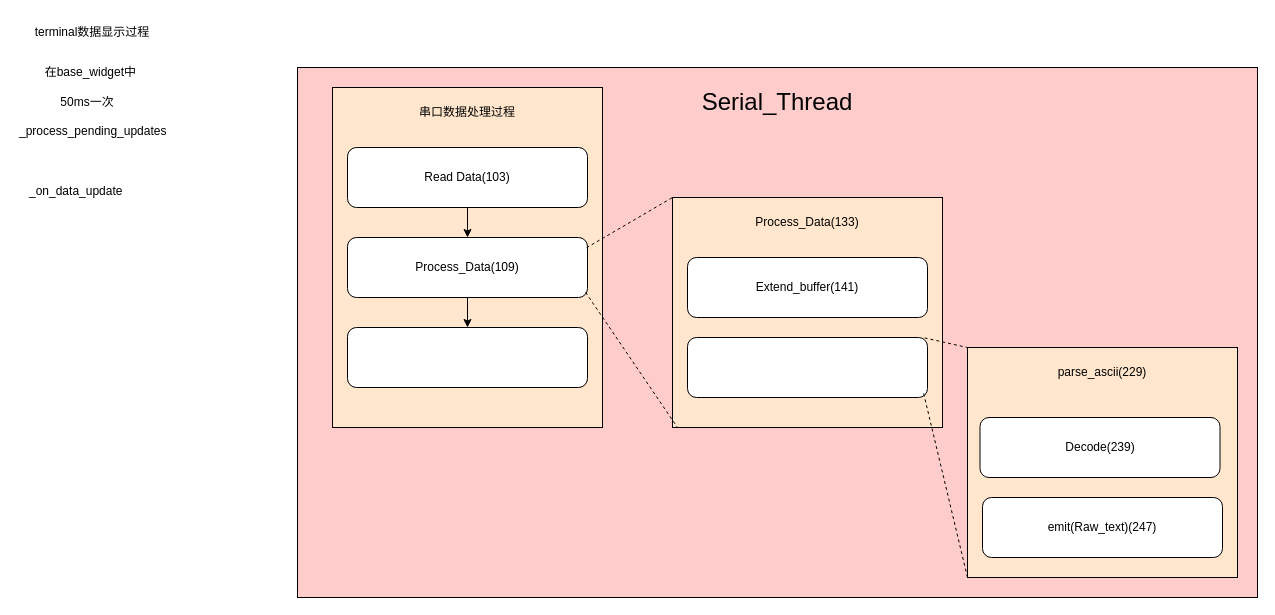
Image size: 1275x615. Some labels were removed from this diagram. Each missing label, with the centre of its shape:
"emit(rx_tx_stats)(112)" belongs at point 467,357.
"parse_ascii(142)" belongs at point 807,367.
